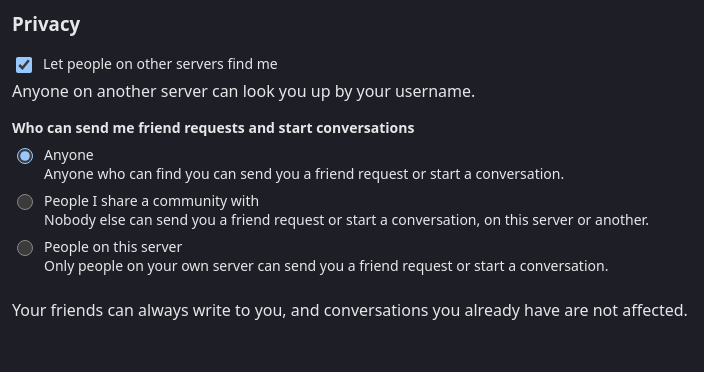
Scenario: Settings -> Privacy -> who can send me friend requests and start conversations › says it could not save when the server refuses
Click the radio button labelled "People on this server" at coordinates (25, 248), box left=17, top=240, right=33, bottom=256
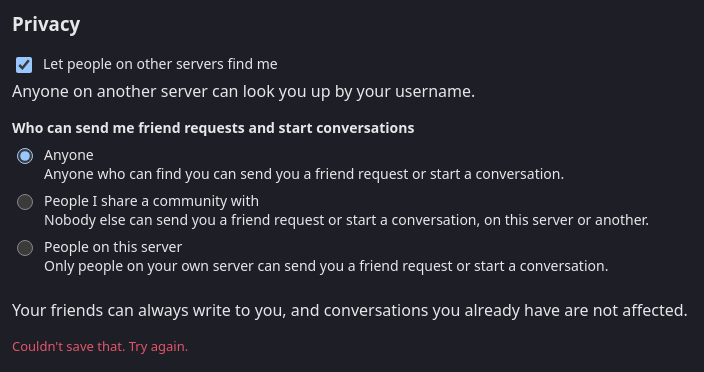
Result: the text "Couldn't save that. Try again." is shown at left=12, top=337, right=188, bottom=355
